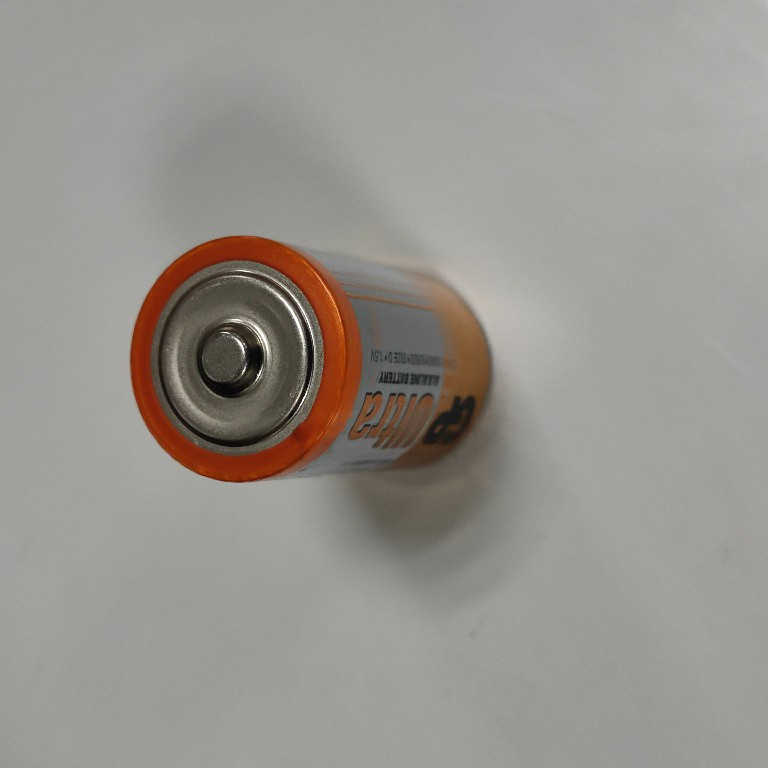charge: (124, 230, 498, 485)
